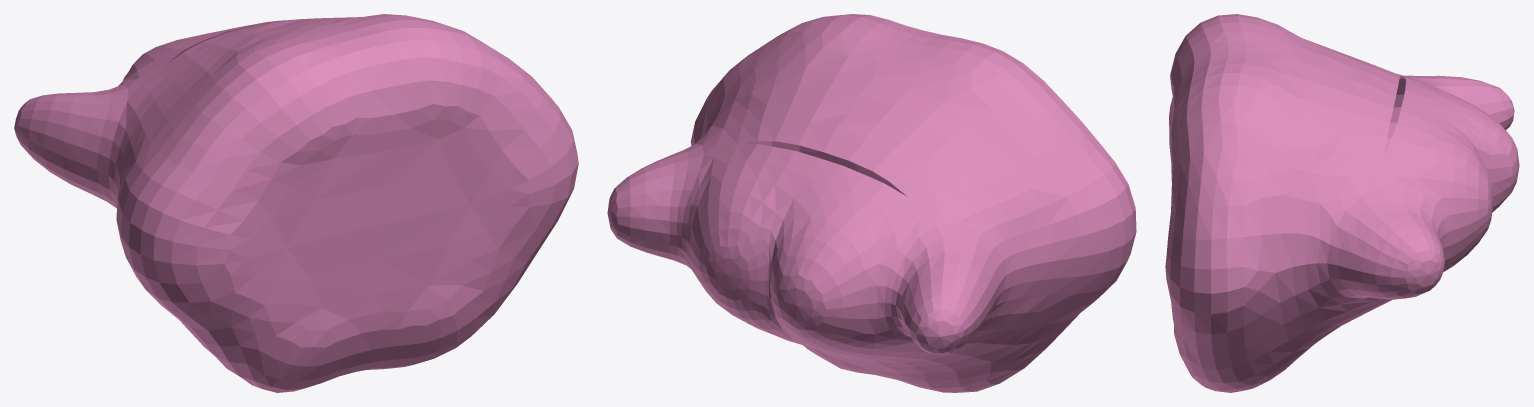
Rendered from BR_Ditto-Shiny01.obj.
The picture shows the model from 3 angles, left to right: view 1: azimuth 30°, elevation 25°; view 2: azimuth 150°, elevation 25°; view 3: azimuth 270°, elevation 25°; orthographic projection. The views are drawn at different scales.
Parts seen in each view (by area): view 1: metamon; view 2: metamon; view 3: metamon.
Boxes of the visible parts, x1,y1,x2,y2 form: metamon: (14,14,578,392); metamon: (607,14,1136,392); metamon: (1165,14,1519,392).
Bounding box in the file's own units: 4.58 × 3.43 × 3.51.
